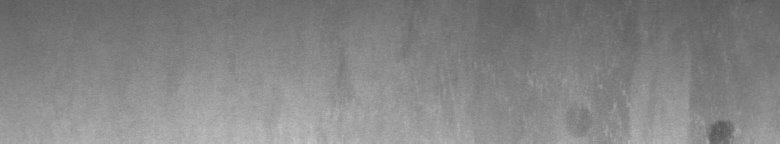fi: (700, 112, 741, 136)
